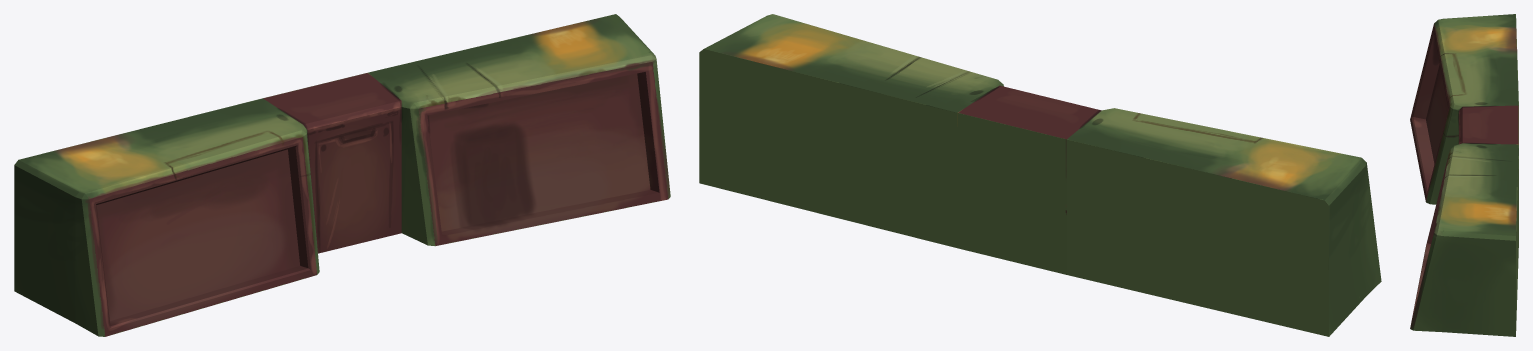
Rendered from control_panel_holder.obj.
The picture shows the model from 3 angles, left to right: view 1: azimuth 30°, elevation 25°; view 2: azimuth 150°, elevation 25°; view 3: azimuth 270°, elevation 25°; orthographic projection. The views are drawn at different scales.
Visible parts, largest first — view 1: Cube.010_export; view 2: Cube.010_export; view 3: Cube.010_export.
Part boxes in pixels (x1=…): Cube.010_export: x1=14, y1=14, x2=670, y2=336; Cube.010_export: x1=699, y1=14, x2=1381, y2=336; Cube.010_export: x1=1410, y1=14, x2=1518, y2=336.
Size of the model in its own units: 3.33 by 0.686 by 0.6817.
